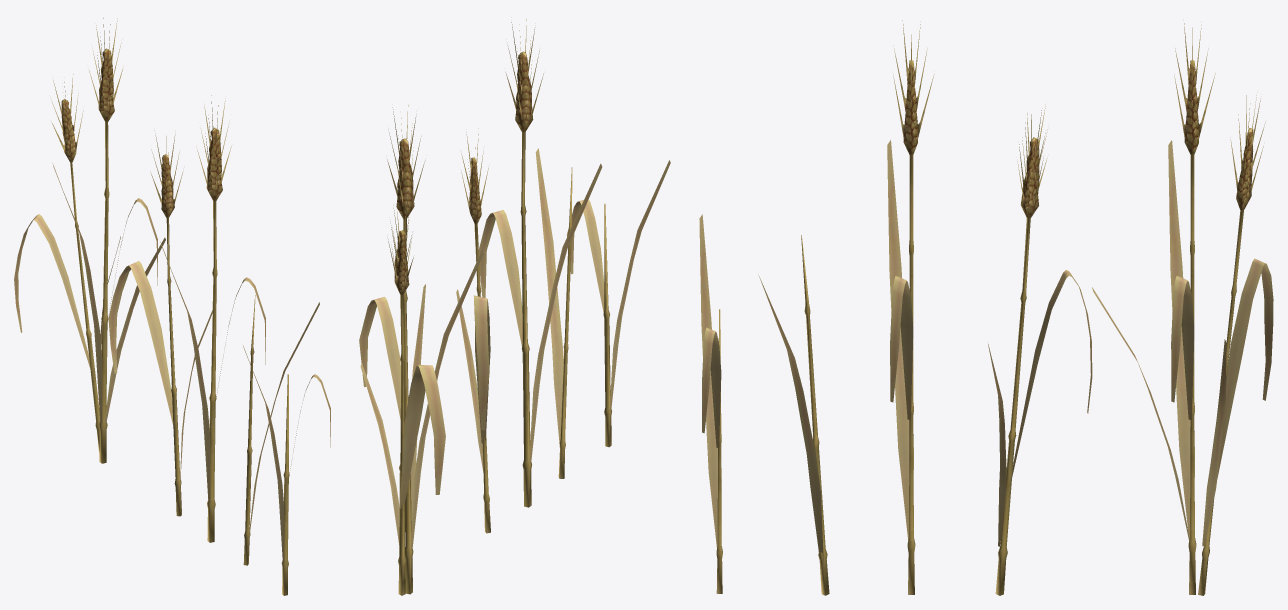
The model's file is wheat.glb.
3 views of the same model, side by side, from view 1: azimuth 30°, elevation 25°; view 2: azimuth 150°, elevation 25°; view 3: azimuth 270°, elevation 25° (orthographic). The views are drawn at different scales.
Visible parts, largest first — view 1: Plane; view 2: Plane; view 3: Plane.
Boxes of the visible parts, x1=… form: Plane: x1=14, y1=18, x2=330, y2=595; Plane: x1=359, y1=19, x2=670, y2=595; Plane: x1=699, y1=20, x2=1273, y2=595.
Bounding box in the file's own units: 7.32 × 27.74 × 24.97.
1 material, 1 textured.
